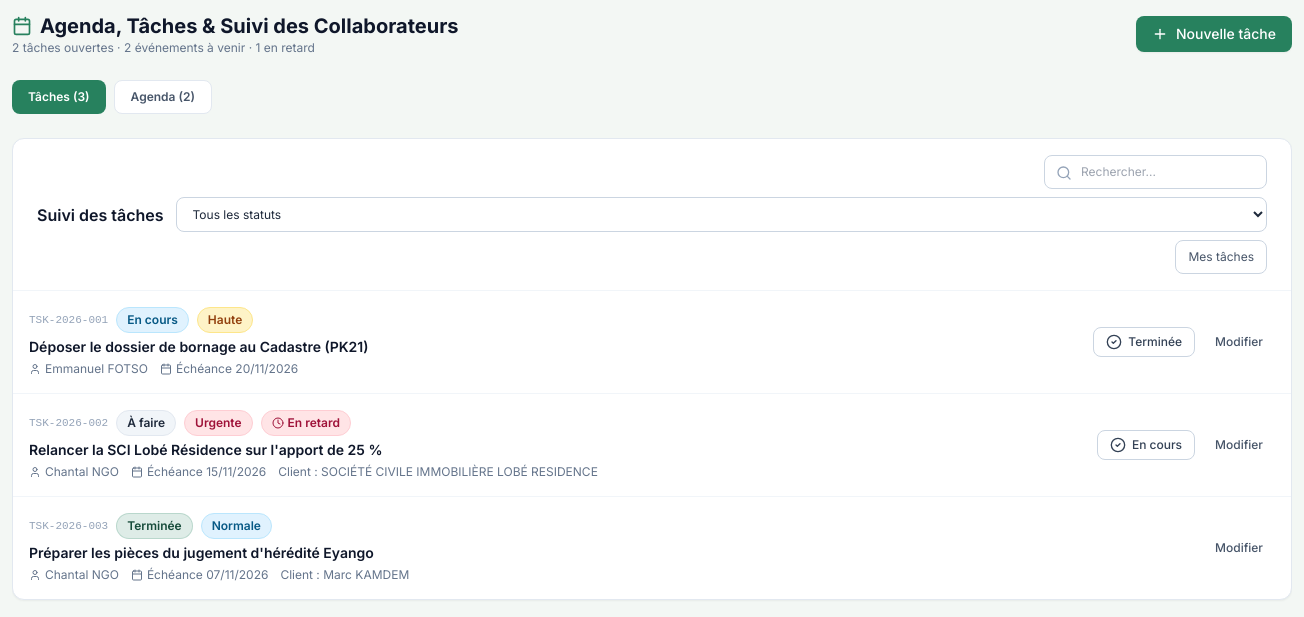
Test: TasksPage en mode démo › affiche les tâches et l agenda locaux
Expected: the text "TSK-2026-001" is shown, [29,312,108,328]
Expected: the text "Déposer le dossier de bornage au Cadastre (PK21)" is shown, [29,338,368,355]
Step 1. Click the button "Agenda (2)" → (163, 97), box [114,80,212,114]
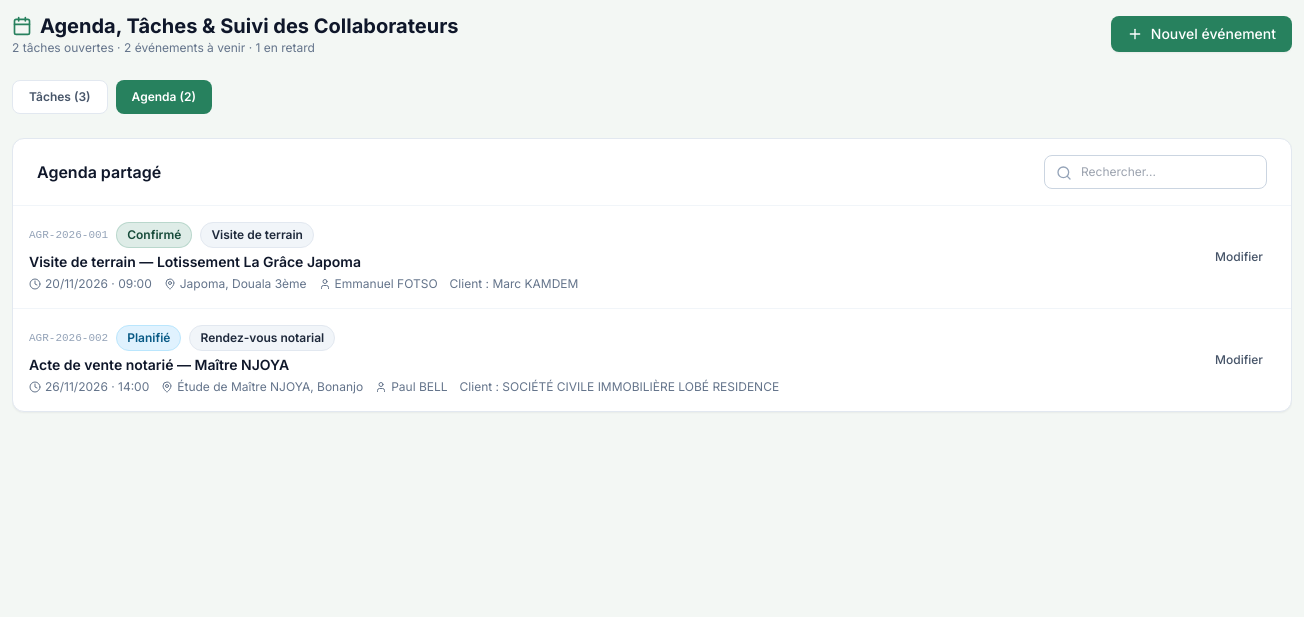
Expected: the text "AGR-2026-001" is shown, [29,227,108,243]
Expected: the text "Visite de terrain — Lotissement La Grâce Japoma" is shown, [29,253,361,270]
